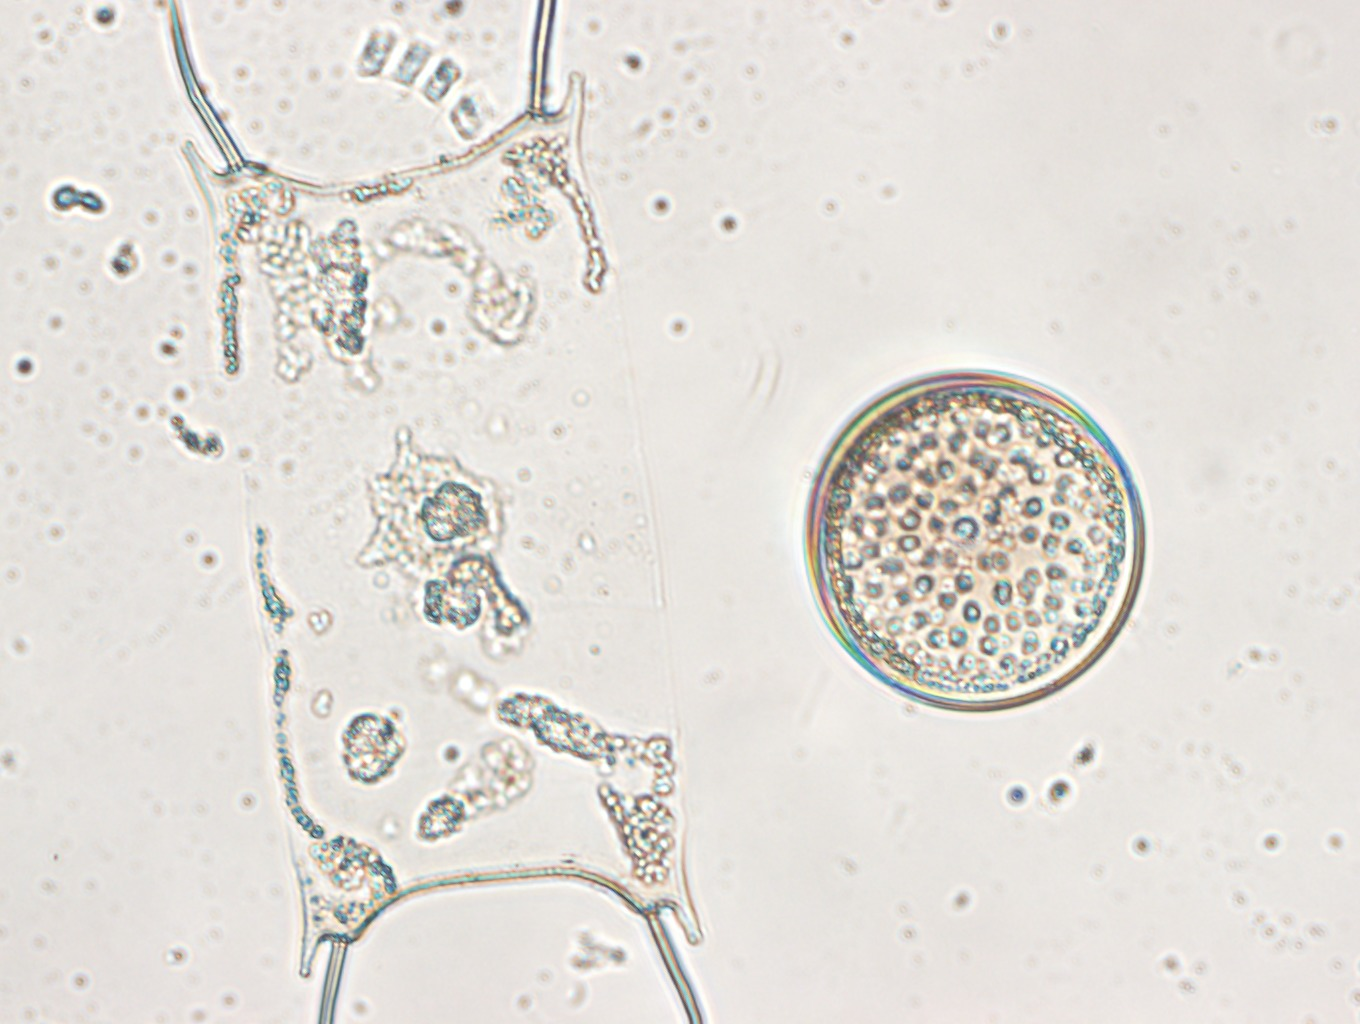biddulphia: (164, 1, 708, 1024)
coscinodiscus: (802, 362, 1151, 714)
